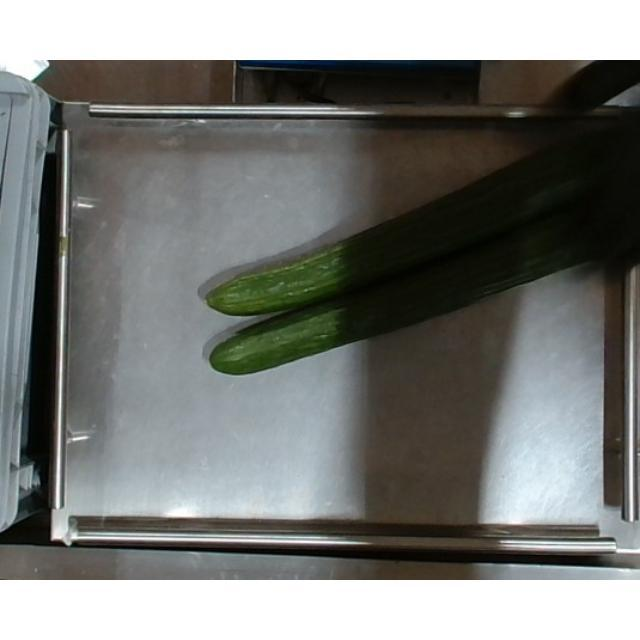cucumber: (206, 185, 640, 379), (206, 127, 640, 320)
